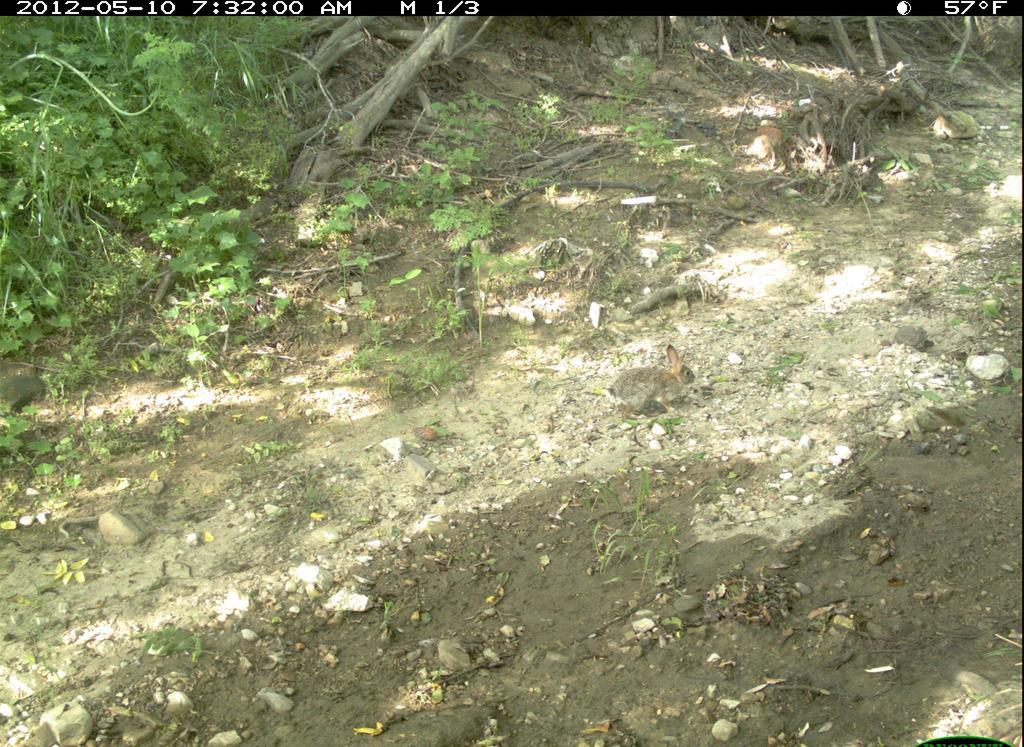rabbit: (585, 335, 705, 434)
